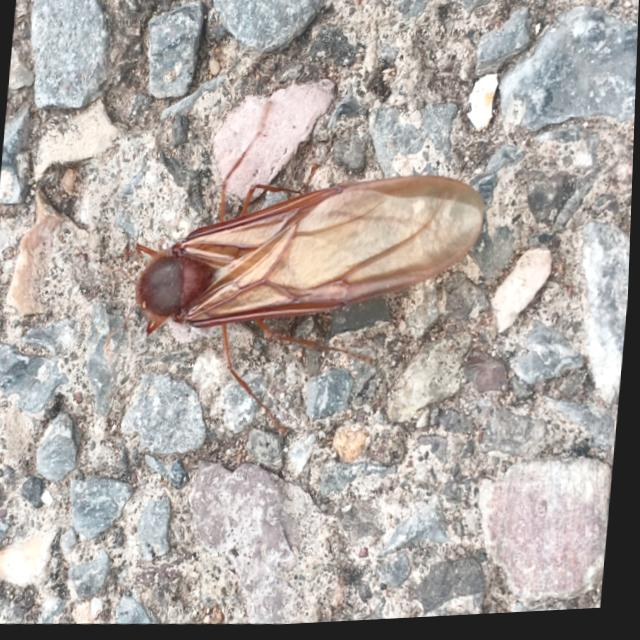Alive-Male-Alate: (88, 85, 497, 459)
